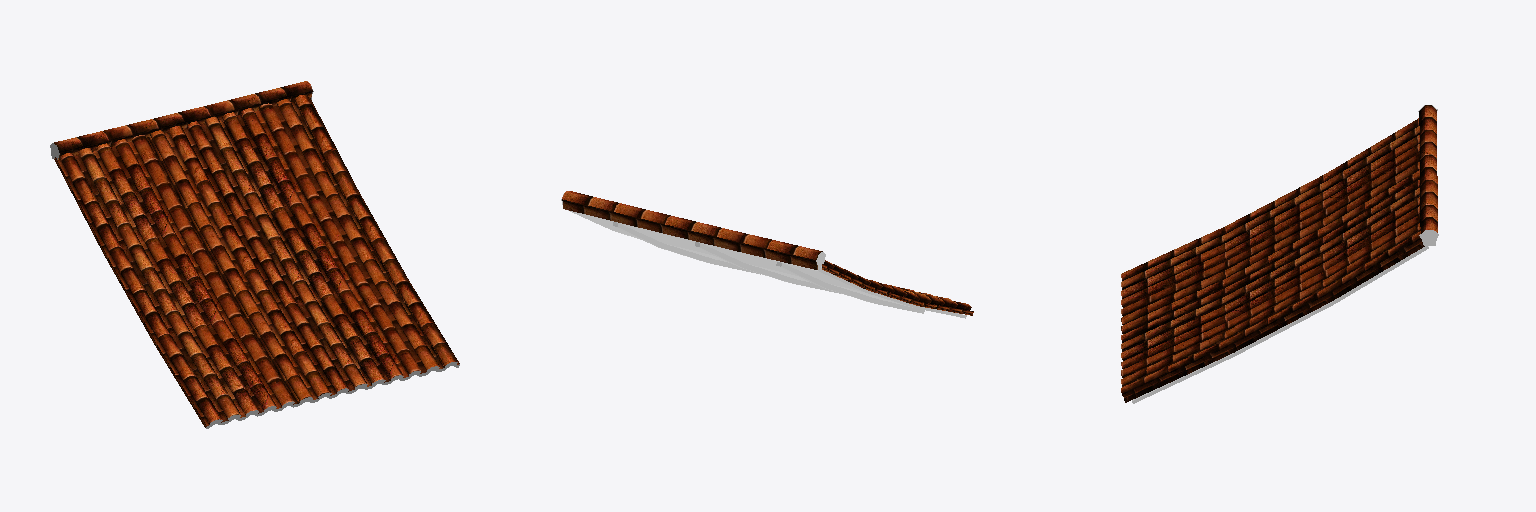
3 renders of one model, left to right at view 1: azimuth 30°, elevation 25°; view 2: azimuth 150°, elevation 25°; view 3: azimuth 270°, elevation 25°, orthographic.
Parts seen in each view (by area): view 1: Line02, Line01, Object01; view 2: Line01, Box06, Line02, Box03, Box09, Box08; view 3: Line02, Line01, Box06.
Part boxes in pixels (x1,y1,x2,y2): Line02: (54,95,459,427); Line01: (54,81,312,159); Object01: (206,362,459,428); Line01: (562,191,822,269); Box06: (568,210,966,318); Line02: (822,260,973,315); Box03: (776,262,924,313); Box09: (613,222,760,274); Box08: (695,242,840,293); Line02: (1121,118,1424,402); Line01: (1419,105,1437,233); Box06: (1132,246,1428,403).
Bounding box in the file's own units: 4.21 × 2.8 × 4.56.
3 materials, 1 textured.